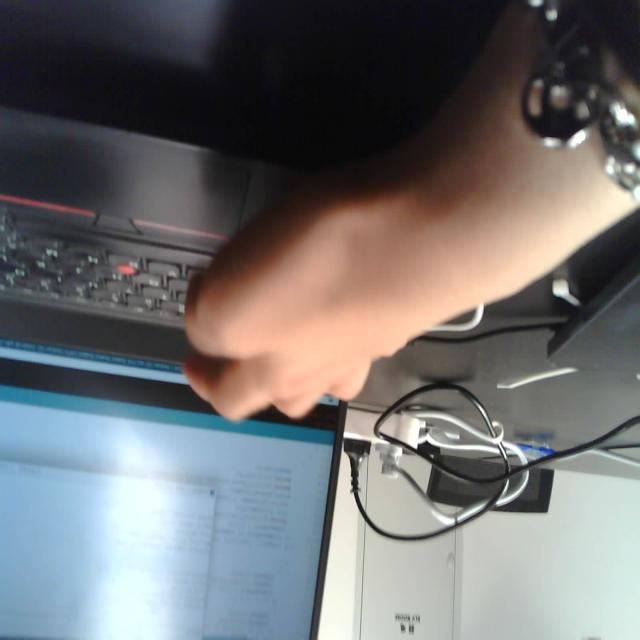keyboard-with-hands: (0, 102, 380, 364)
